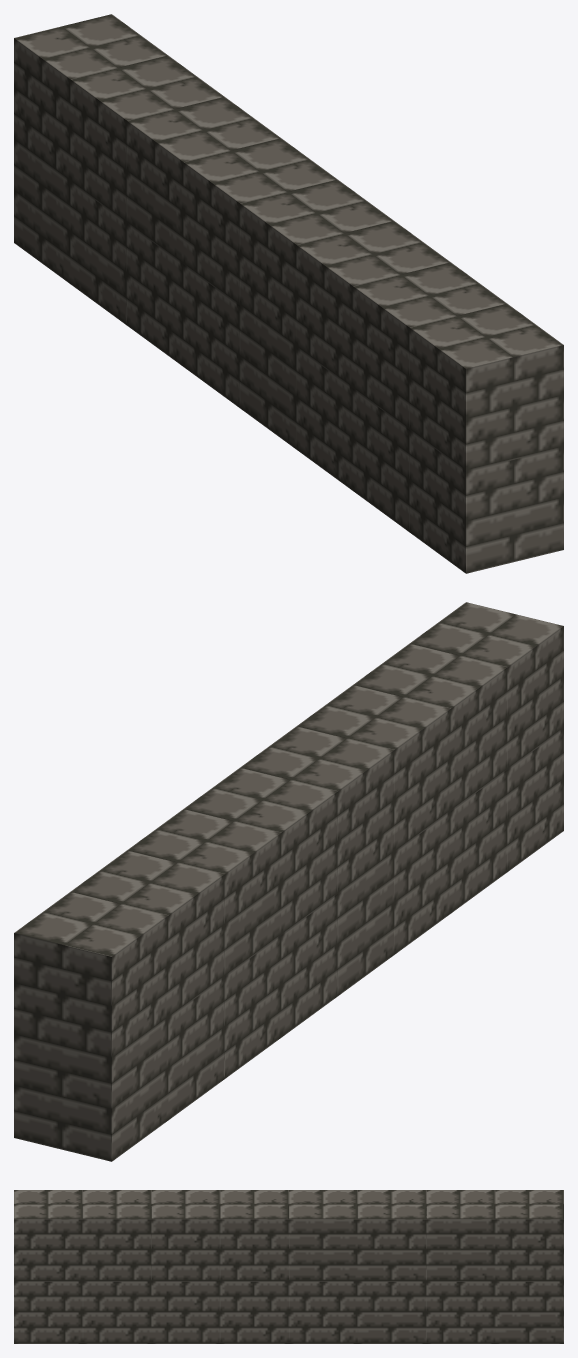
The model's file is Foundation_Short_x8.fbx.
3 views of the same model, one above another, from view 1: azimuth 30°, elevation 25°; view 2: azimuth 150°, elevation 25°; view 3: azimuth 270°, elevation 25° (orthographic). The views are drawn at different scales.
Parts seen in each view (by area): view 1: Foundation_Short_x8; view 2: Foundation_Short_x8; view 3: Foundation_Short_x8.
Part boxes in pixels (x1,y1,x2,y2): Foundation_Short_x8: [14, 14, 563, 573]; Foundation_Short_x8: [14, 602, 563, 1161]; Foundation_Short_x8: [14, 1190, 563, 1343].
Bounding box in the file's own units: 200 × 400 × 1600.
1 material, 1 textured.
